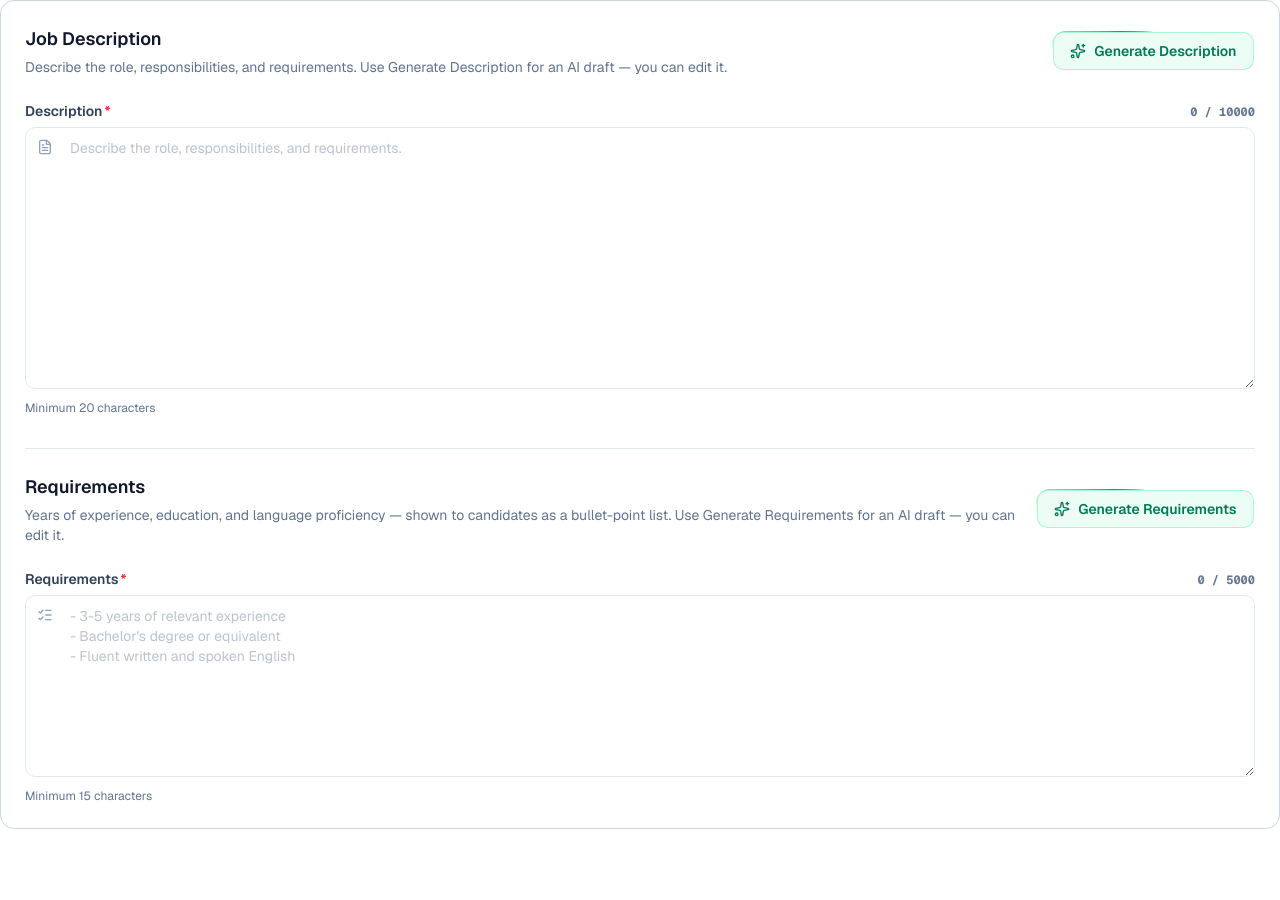
Scenario: Step5Description › updates character count on input
Type "Hello World" into the text box with placeholder "Describe the role, responsibilities, and requirements." at coordinates (640, 258), box [25,127,1255,389]
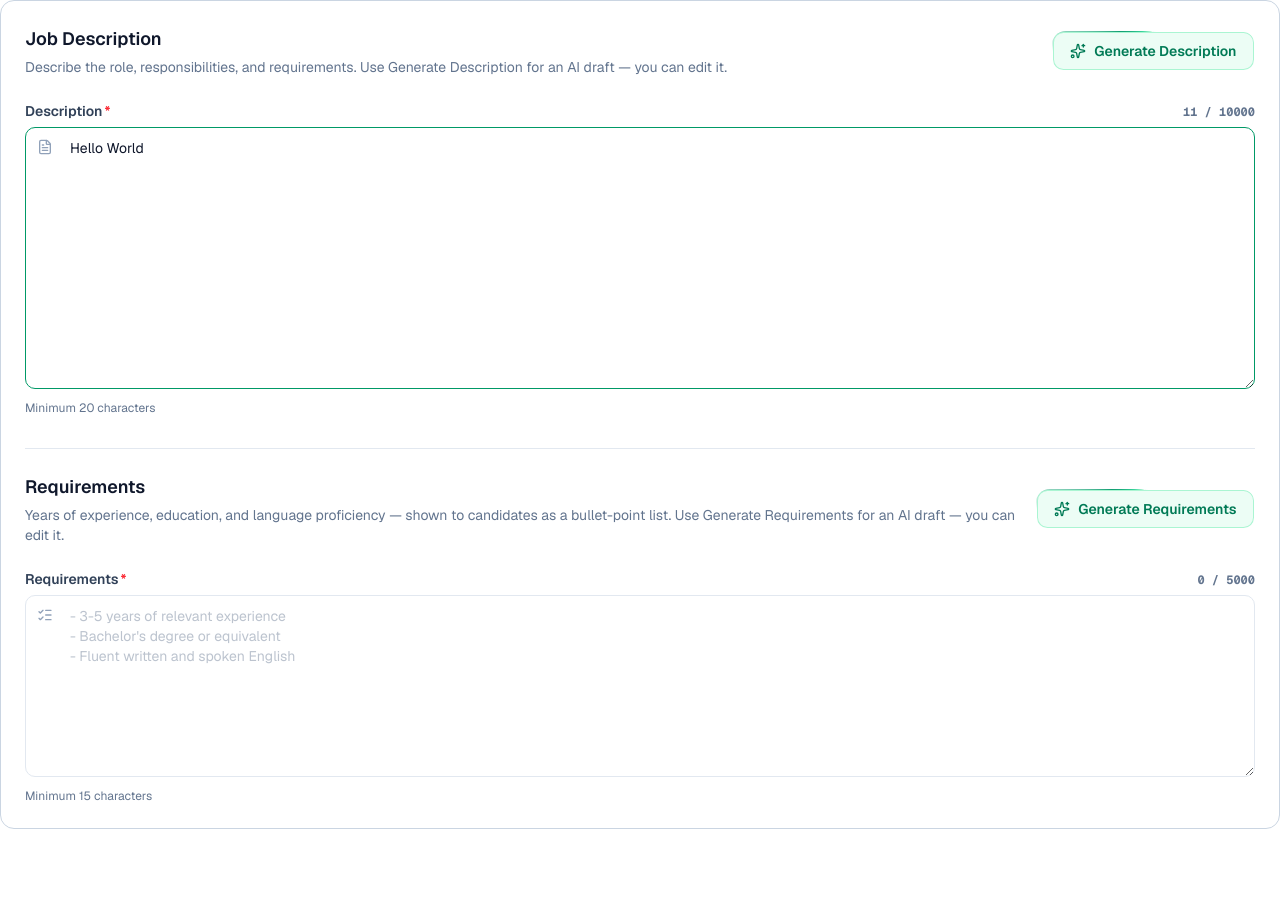
Expected: the text "11 / 10000" is shown, [1183,104,1255,120]
